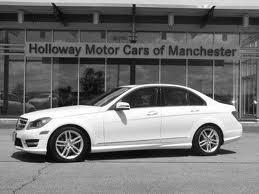car: (14, 85, 244, 162)
